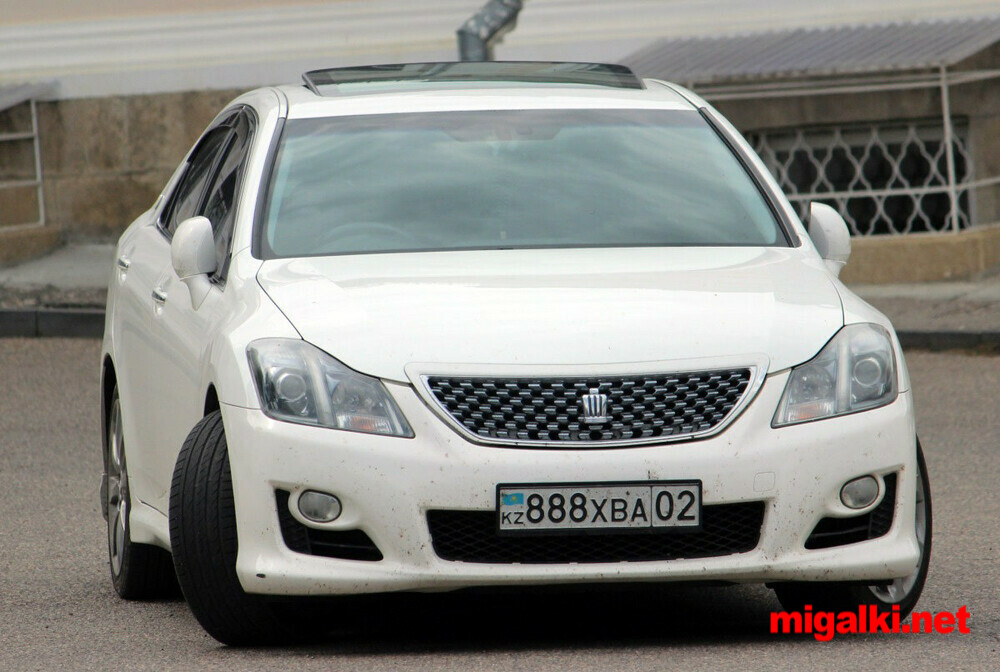license_plate: (498, 485, 698, 530)
